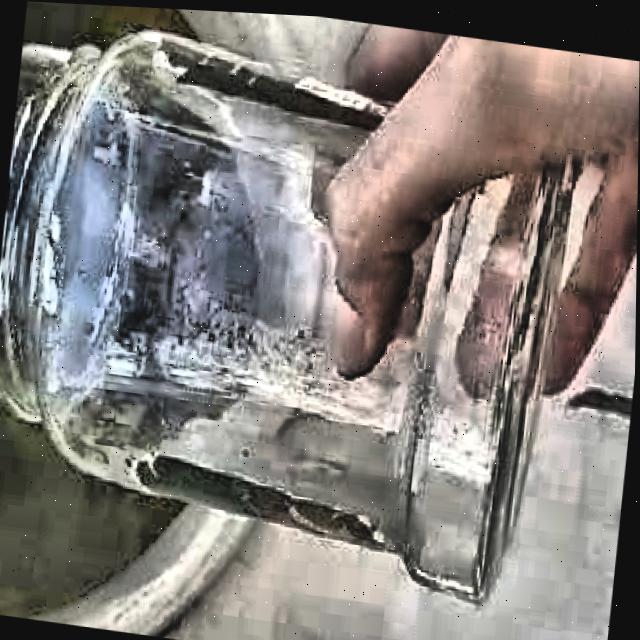glass: (0, 31, 573, 593)
